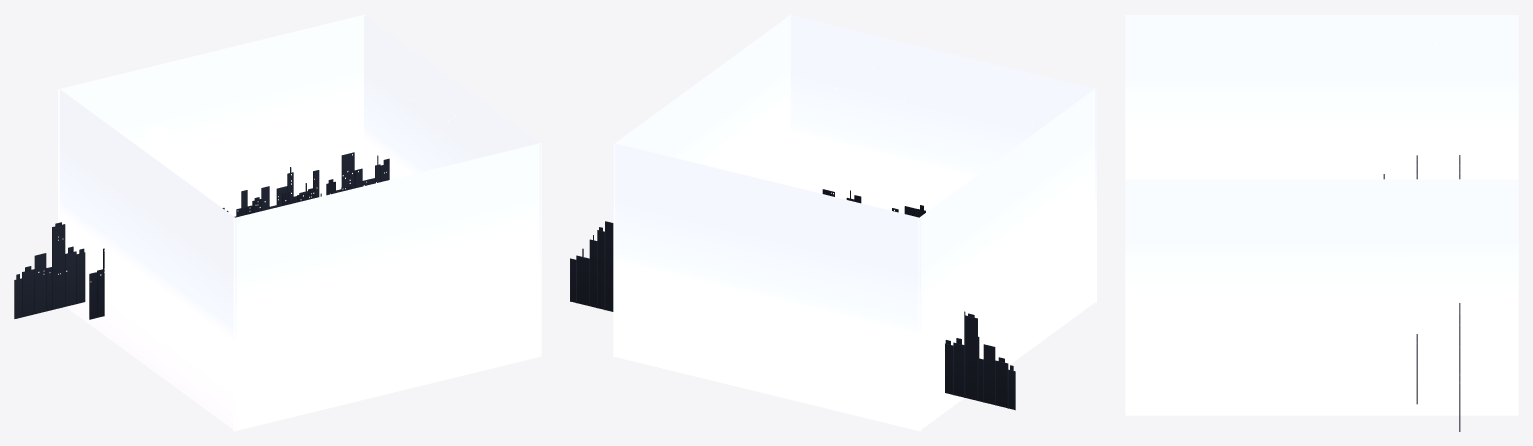
File: rooftop.glb
3 views of the same model, side by side, from view 1: azimuth 30°, elevation 25°; view 2: azimuth 150°, elevation 25°; view 3: azimuth 270°, elevation 25° (orthographic). The views are drawn at different scales.
Visible parts, largest first — view 1: Backdrop_Sky_Emissive, Backdrop_Skyline; view 2: Backdrop_Sky_Emissive, Backdrop_Skyline; view 3: Backdrop_Sky_Emissive, Backdrop_Skyline.
Boxes of the visible parts, left/top/right/bottom form: Backdrop_Sky_Emissive: left=58, top=14, right=541, bottom=431; Backdrop_Skyline: left=14, top=152, right=389, bottom=319; Backdrop_Sky_Emissive: left=613, top=14, right=1096, bottom=431; Backdrop_Skyline: left=570, top=189, right=1015, bottom=410; Backdrop_Sky_Emissive: left=1125, top=15, right=1518, bottom=415; Backdrop_Skyline: left=1383, top=155, right=1460, bottom=431.
Size of what is drawn, in the model's own units: 240 by 110 by 166.
